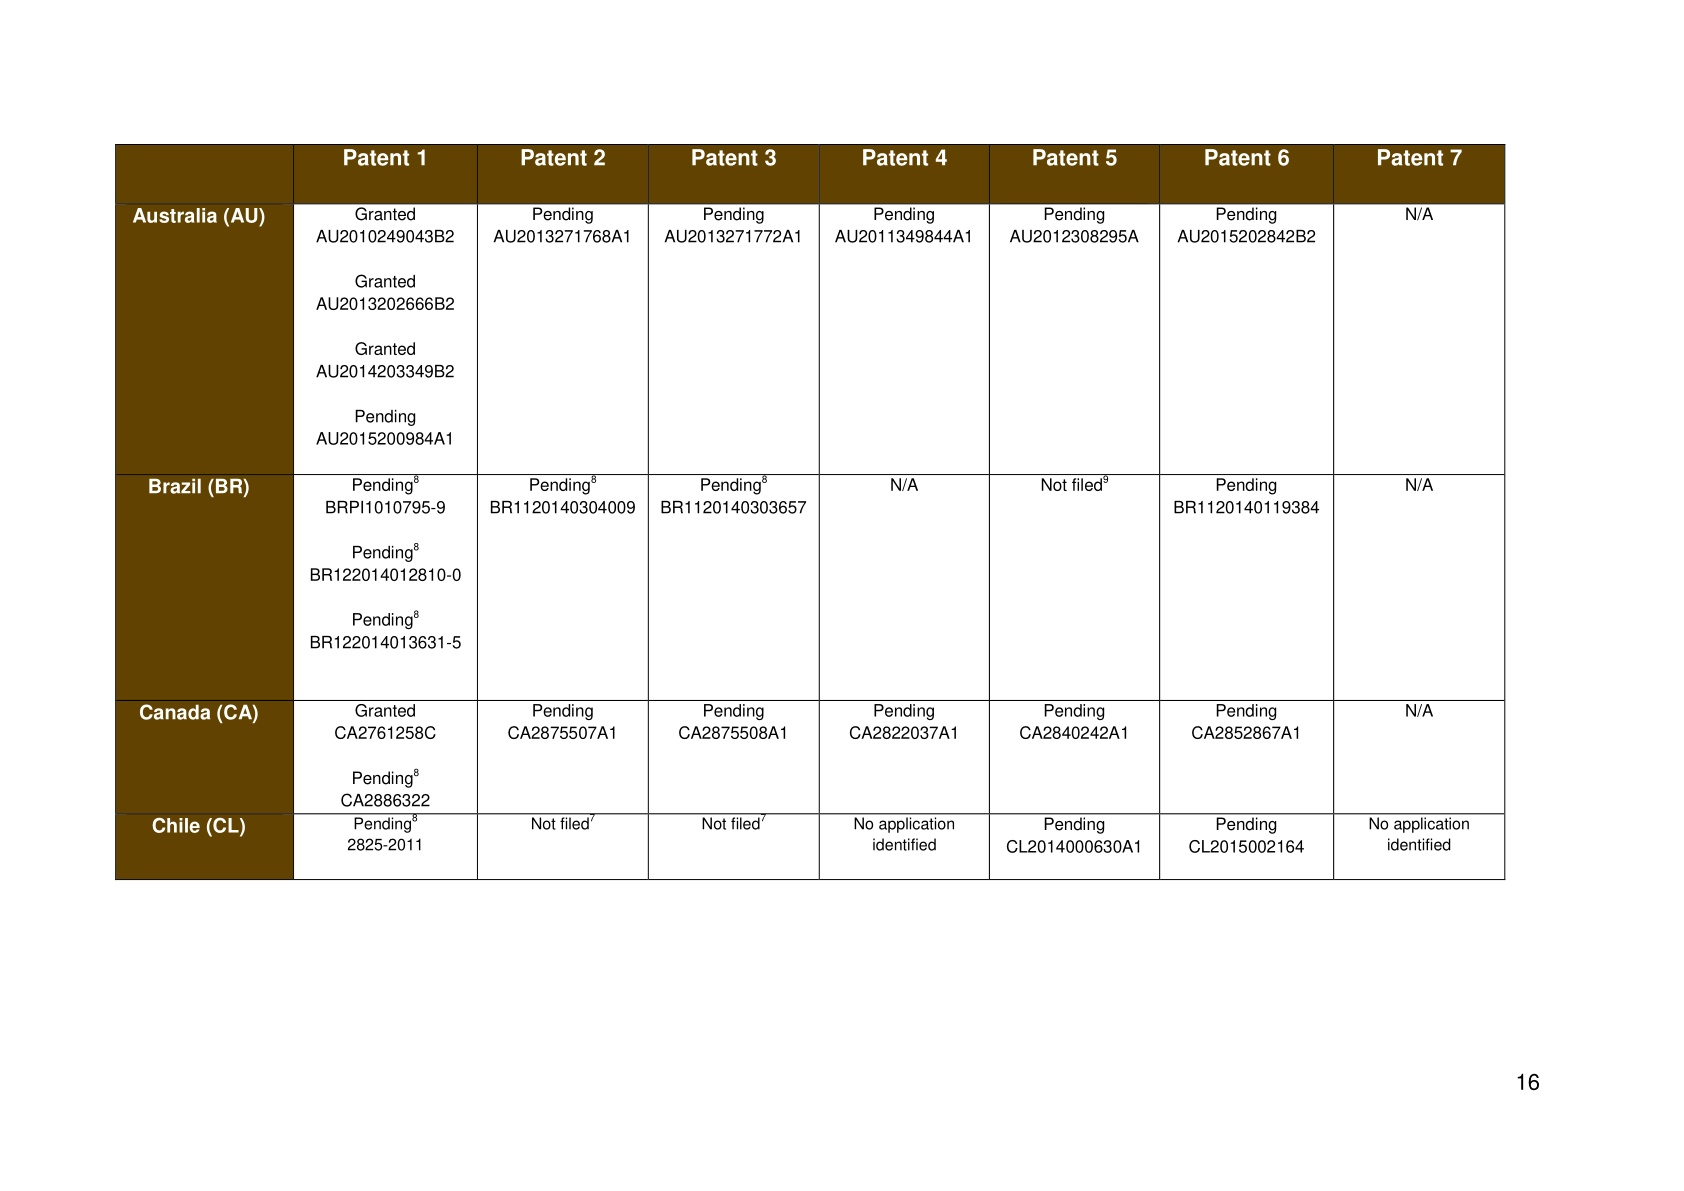full_lined: (115, 144, 1506, 880)
